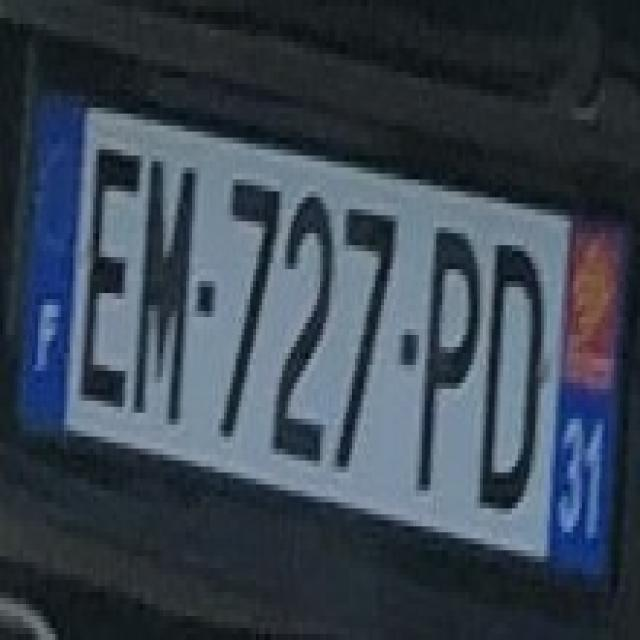EU: (9, 89, 629, 576)
France: (11, 93, 86, 440)
